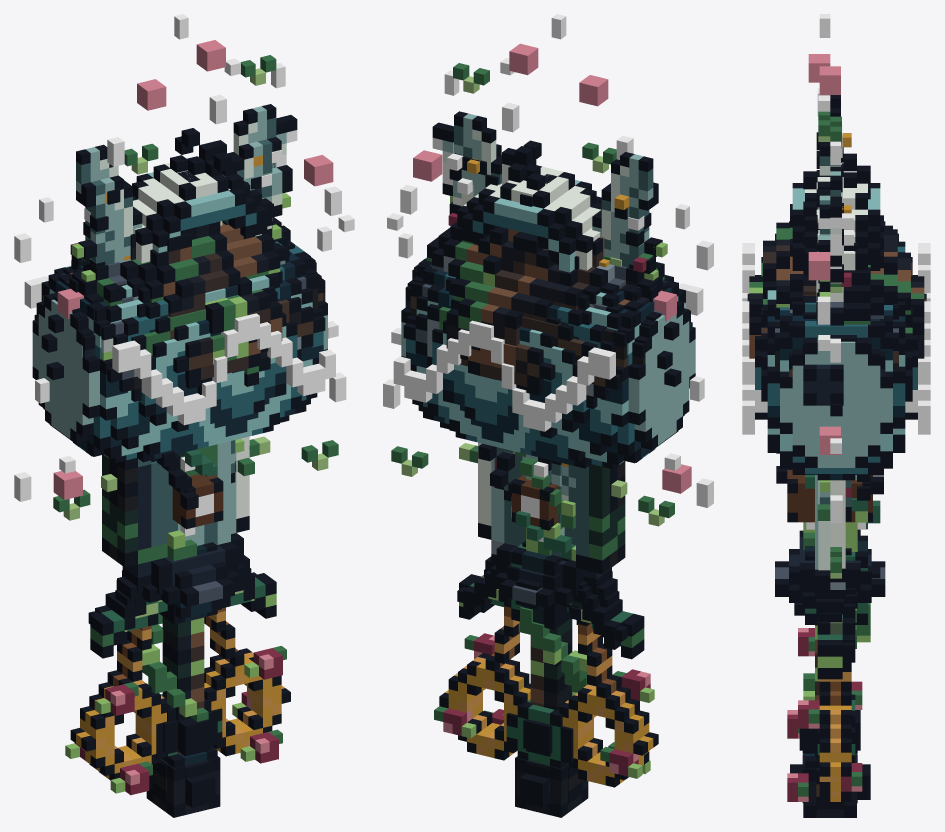
The model's file is weapons_floor2.obj.
3 renders of one model, left to right at view 1: azimuth 30°, elevation 25°; view 2: azimuth 150°, elevation 25°; view 3: azimuth 270°, elevation 25°, orthographic.
Visible parts, largest first — view 1: W_tidal_hammer, W_gardener_shears, W_root_hammer, W_garden_machete, W_mud_mallet, G1_tidal_hammer, W_thorn_blade, W_reaper_blade, W_reed_saber, G2_tidal_hammer, G1_reaper_blade, G2_gardener_shears (+1 smaller); view 2: W_tidal_hammer, W_gardener_shears, W_root_hammer, W_garden_machete, W_thorn_blade, W_mud_mallet, G1_tidal_hammer, W_reaper_blade, W_reed_saber, G2_tidal_hammer, G1_reaper_blade, G2_gardener_shears (+1 smaller); view 3: W_tidal_hammer, W_root_hammer, W_gardener_shears, W_thorn_blade, W_garden_machete, G1_tidal_hammer, W_reed_saber, W_mud_mallet, W_reaper_blade, G2_tidal_hammer, G1_reaper_blade, G2_gardener_shears (+1 smaller).
Part boxes in pixels (left/top/right/bottom): W_tidal_hammer: left=32, top=156, right=327, bottom=767; W_gardener_shears: left=53, top=40, right=333, bottom=795; W_root_hammer: left=41, top=128, right=325, bottom=817; W_garden_machete: left=102, top=436, right=249, bottom=754; W_mud_mallet: left=34, top=225, right=325, bottom=806; G1_tidal_hammer: left=14, top=109, right=346, bottom=501; W_thorn_blade: left=90, top=140, right=276, bottom=762; W_reaper_blade: left=53, top=55, right=338, bottom=645; W_reed_saber: left=117, top=163, right=275, bottom=756; G2_tidal_hammer: left=14, top=94, right=346, bottom=490; G1_reaper_blade: left=59, top=58, right=354, bottom=536; G2_gardener_shears: left=35, top=14, right=331, bottom=516; W_tidal_hammer: left=401, top=165, right=695, bottom=766; W_gardener_shears: left=413, top=43, right=691, bottom=787; W_root_hammer: left=427, top=140, right=679, bottom=817; W_garden_machete: left=478, top=442, right=625, bottom=754; W_thorn_blade: left=459, top=148, right=644, bottom=768; W_mud_mallet: left=403, top=264, right=692, bottom=806; G1_tidal_hammer: left=383, top=117, right=713, bottom=507; W_reaper_blade: left=391, top=63, right=674, bottom=646; W_reed_saber: left=449, top=156, right=617, bottom=756; G2_tidal_hammer: left=383, top=102, right=713, bottom=496; G1_reaper_blade: left=387, top=58, right=680, bottom=542; G2_gardener_shears: left=398, top=14, right=704, bottom=518; W_tidal_hammer: left=755, top=177, right=917, bottom=768; W_root_hammer: left=749, top=132, right=924, bottom=817; W_gardener_shears: left=787, top=54, right=872, bottom=801; W_thorn_blade: left=805, top=170, right=880, bottom=768; W_garden_machete: left=799, top=475, right=860, bottom=757; G1_tidal_hammer: left=742, top=105, right=930, bottom=523; W_reed_saber: left=775, top=203, right=885, bottom=759; W_mud_mallet: left=747, top=221, right=926, bottom=809; W_reaper_blade: left=794, top=111, right=853, bottom=656; G2_tidal_hammer: left=742, top=88, right=930, bottom=511; G1_reaper_blade: left=806, top=95, right=865, bottom=529; G2_gardener_shears: left=819, top=14, right=840, bottom=352.
Bounding box in the file's own units: 3.1 × 7.11 × 1.54.
